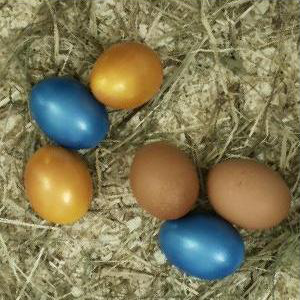egg: (205, 159, 292, 230), (29, 77, 108, 149), (158, 216, 246, 280), (24, 146, 94, 226), (131, 142, 200, 220), (89, 42, 164, 108)
